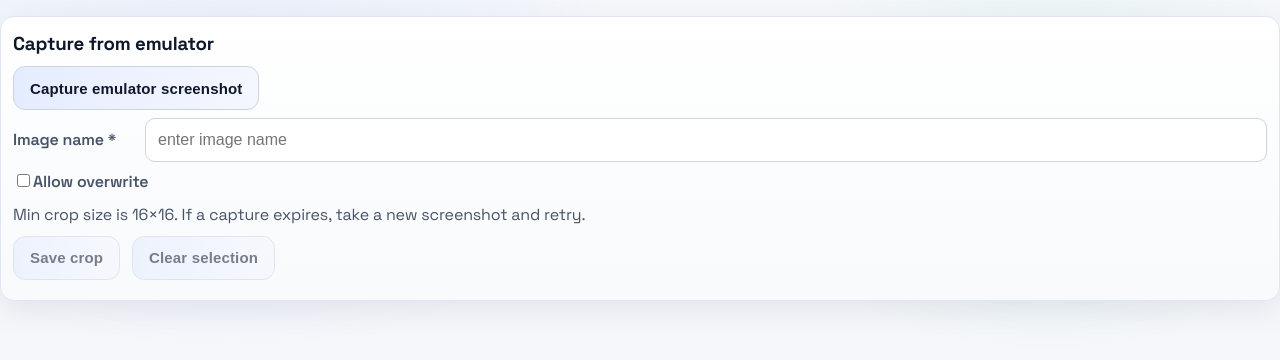
Test: EmulatorCaptureCropper › shows emulator unavailable guidance when capture fails
Click the button "Capture emulator screenshot": [136, 88] box x1=13 y1=66 x2=260 y2=110
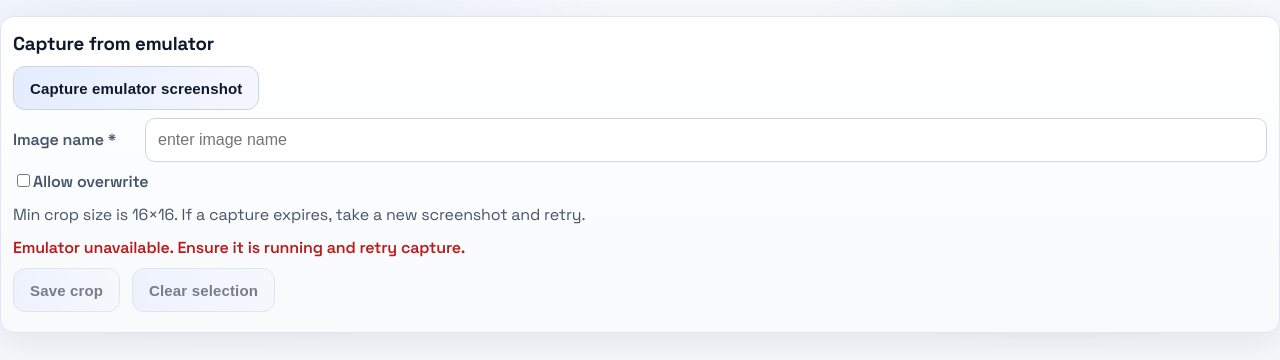
Expected: the message shows "Emulator unavailable", x1=13 y1=237 x2=465 y2=258
